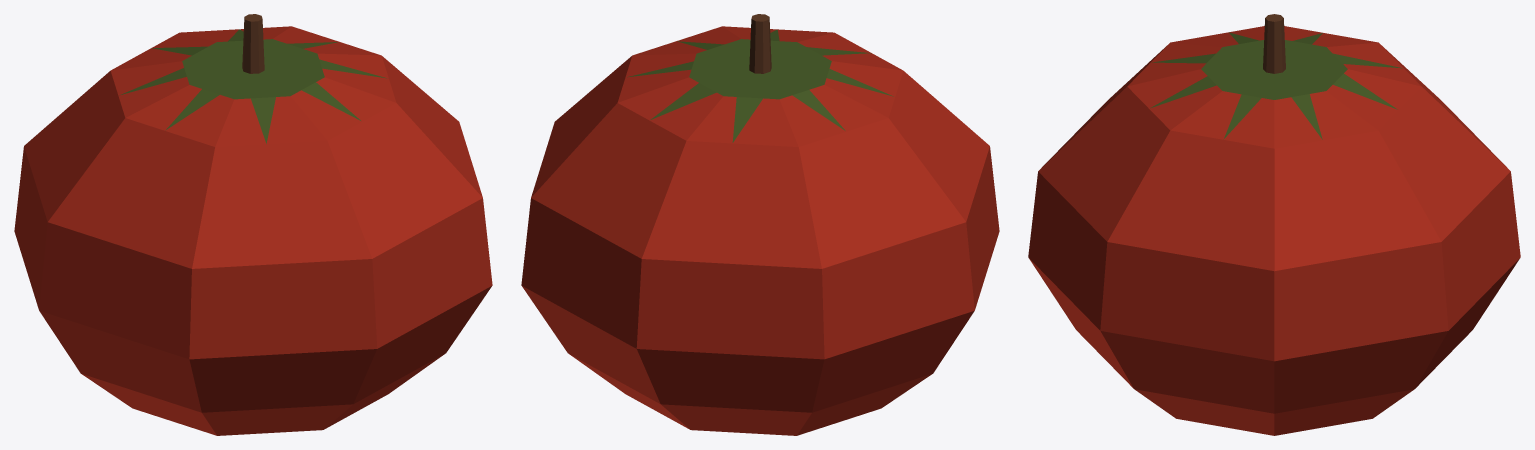
File: Tomato_1.fbx
3 renders of one model, left to right at view 1: azimuth 30°, elevation 25°; view 2: azimuth 150°, elevation 25°; view 3: azimuth 270°, elevation 25°, orthographic.
Parts seen in each view (by area): view 1: Tomato_1; view 2: Tomato_1; view 3: Tomato_1.
Part boxes in pixels (x1,y1,x2,y2): Tomato_1: [14, 14, 492, 435]; Tomato_1: [521, 14, 999, 435]; Tomato_1: [1028, 14, 1520, 435].
Size of the model in its own units: 24.18 by 19.46 by 24.18.
